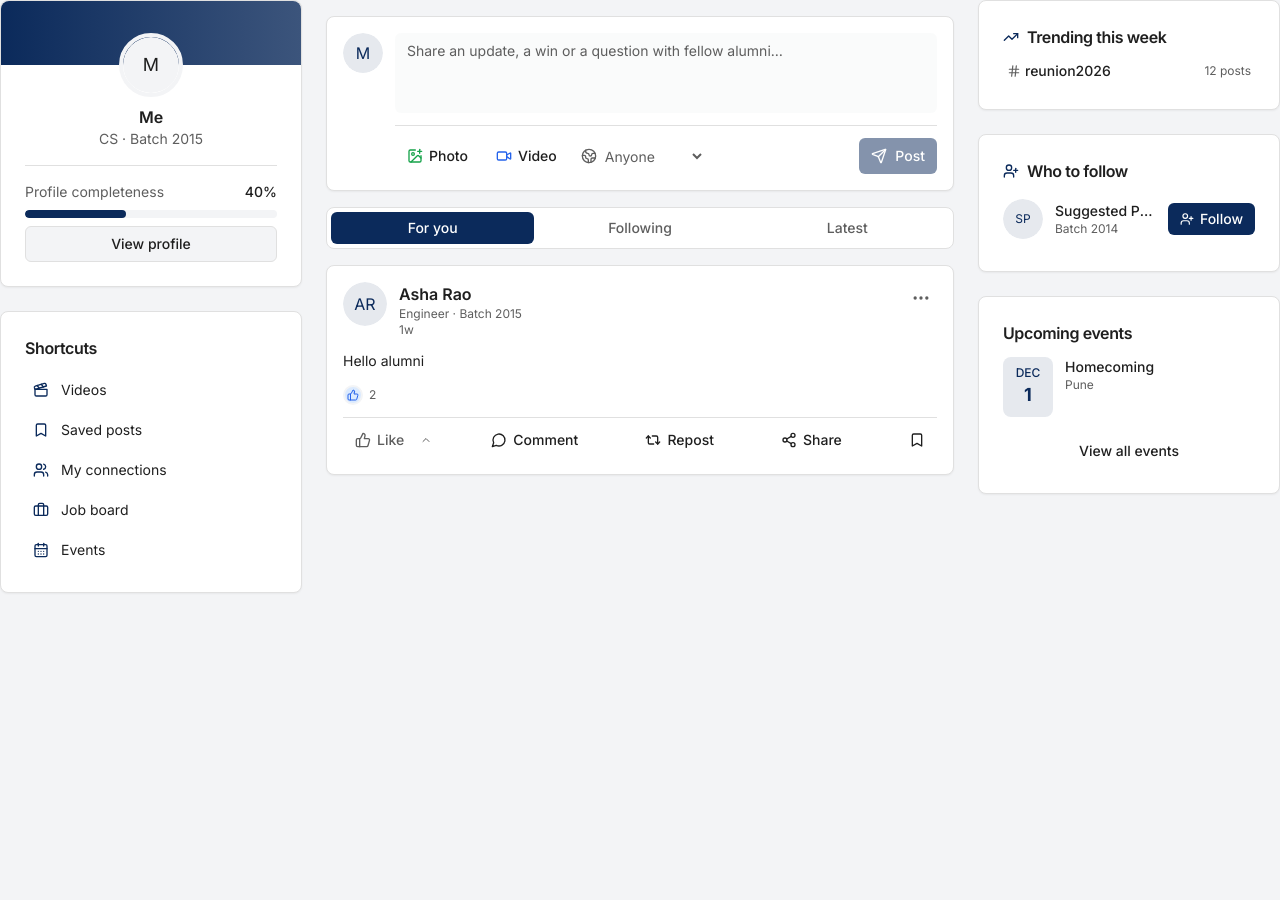
Scenario: Dashboard (home feed) › puts a new post at the top of the feed
Expected: the text "Hello alumni" is shown, [343,352,424,369]
Type "My fresh update" into the dropdown named "Write a post" at point(666, 73), box [395,33,937,113]
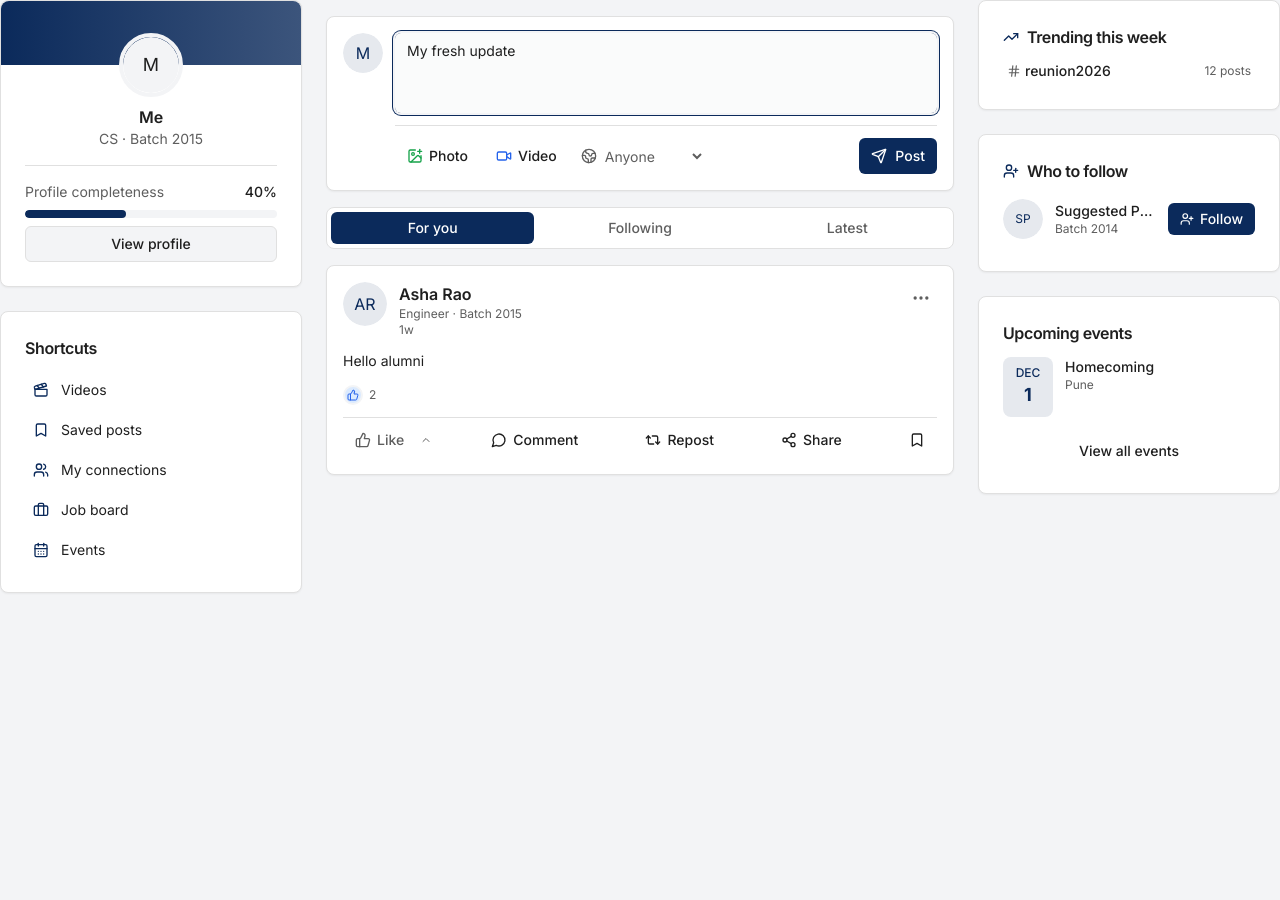
Click the button "Post" at point(898, 156), box [859,138,937,174]
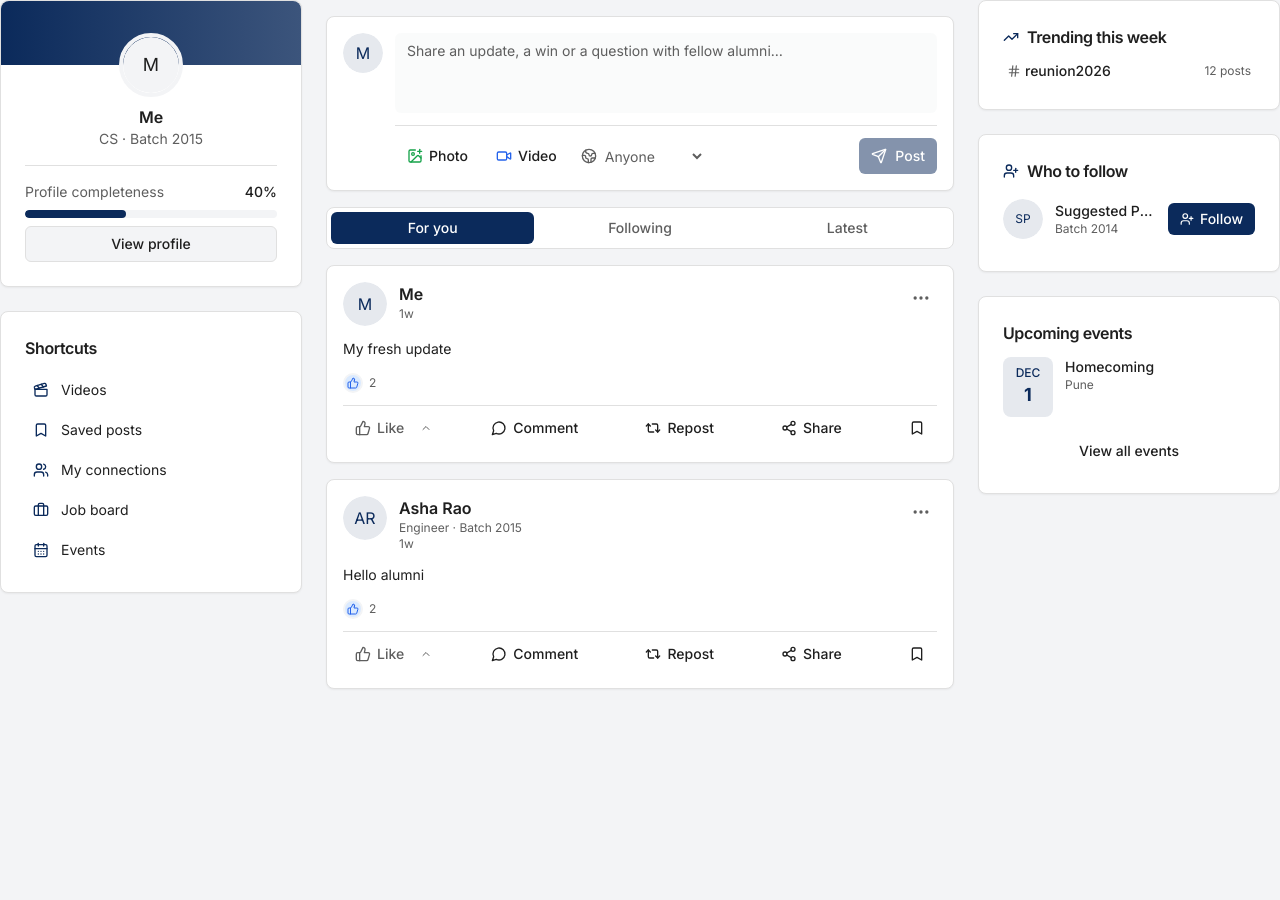
Expected: the text "My fresh update" is shown, [343,340,451,357]
